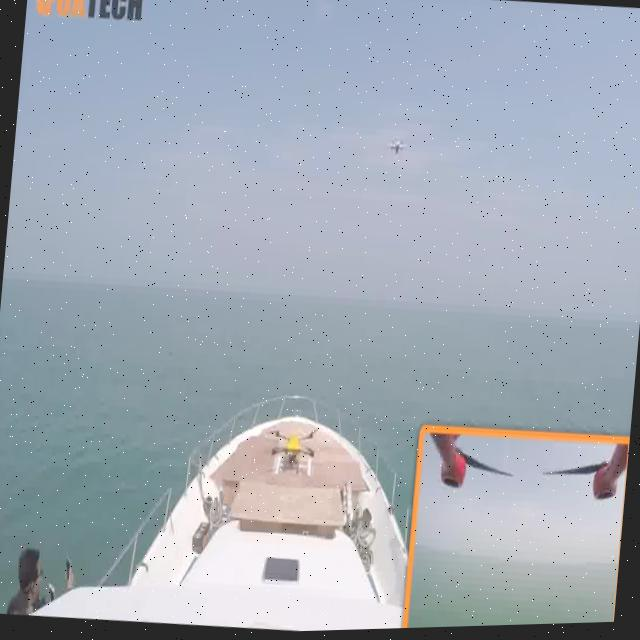drone: (256, 406, 326, 492), (374, 124, 414, 173)
